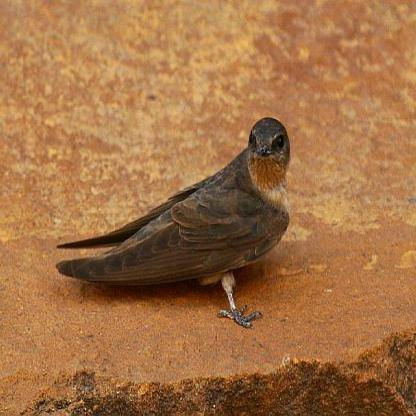Burung: (55, 116, 290, 330)
